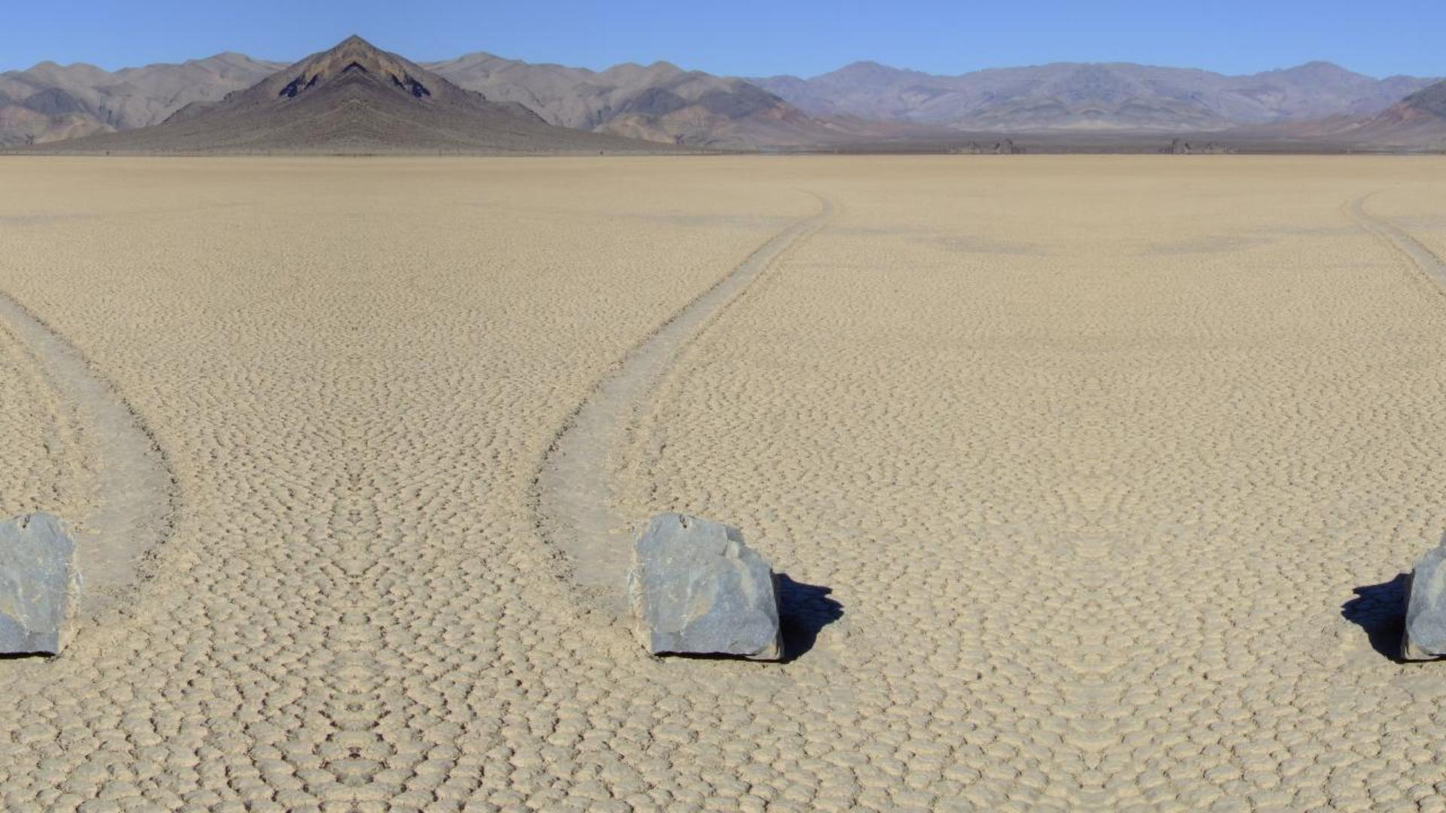rock: (628, 513, 782, 658), (0, 513, 80, 654), (1403, 532, 1445, 658)
